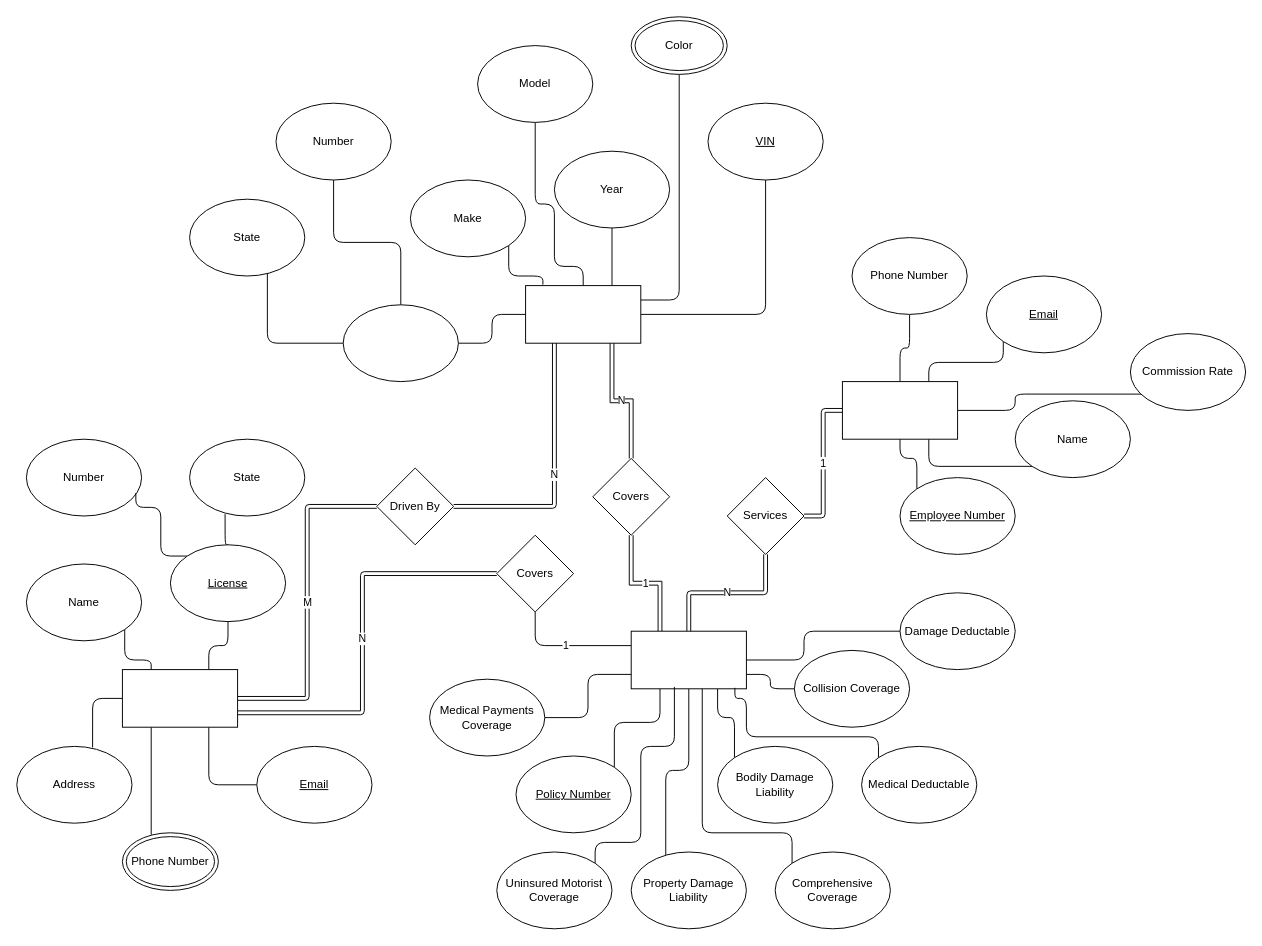
Some shapes in this 1262 by 946 pixel diagram are drawn without their labels. Here are the shapes that lost their labels. From the top down, the centre of each, then its label:
At (583,314): "Cars".
At (400,343): "Registration".
At (899,410): "Agent".
At (688,659): "Policy".
At (179,698): "Drivers".
